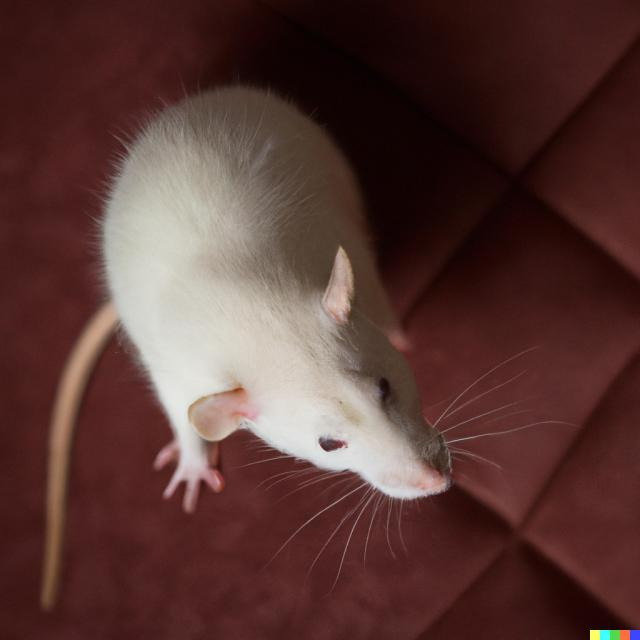rodents: (86, 75, 489, 528)
